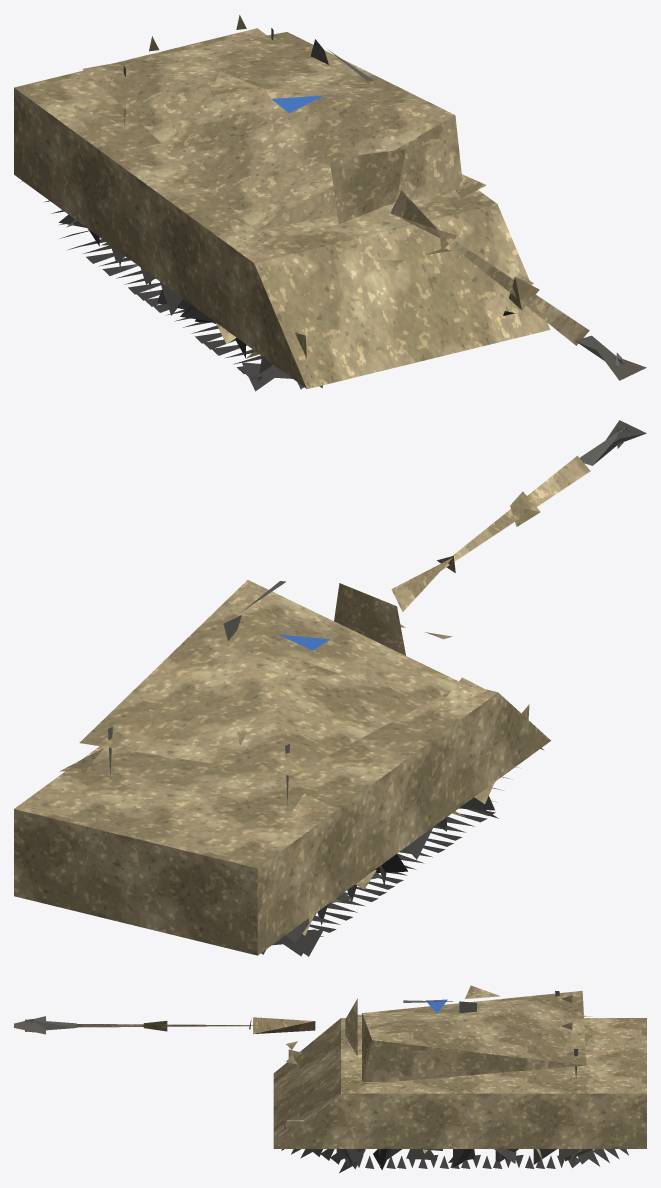
Rendered from art_e4_us_sph_LOD2.glb.
3 renders of one model, top to bottom at view 1: azimuth 30°, elevation 25°; view 2: azimuth 150°, elevation 25°; view 3: azimuth 270°, elevation 25°, orthographic. The views are drawn at different scales.
Visible parts, largest first — view 1: art_e4_us_sph_LOD2_body, art_e4_us_sph_LOD2_track, art_e4_us_sph_LOD2_gun, art_e4_us_sph_LOD2_deck; view 2: art_e4_us_sph_LOD2_body, art_e4_us_sph_LOD2_track, art_e4_us_sph_LOD2_gun; view 3: art_e4_us_sph_LOD2_body, art_e4_us_sph_LOD2_track, art_e4_us_sph_LOD2_gun, art_e4_us_sph_LOD2_deck.
Part boxes in pixels (x1,y1,x2,y2): art_e4_us_sph_LOD2_body: [14, 15, 589, 388]; art_e4_us_sph_LOD2_track: [21, 181, 515, 391]; art_e4_us_sph_LOD2_gun: [123, 28, 622, 366]; art_e4_us_sph_LOD2_deck: [596, 349, 646, 380]; art_e4_us_sph_LOD2_body: [14, 456, 590, 955]; art_e4_us_sph_LOD2_track: [261, 748, 543, 956]; art_e4_us_sph_LOD2_gun: [108, 426, 633, 805]; art_e4_us_sph_LOD2_body: [77, 985, 646, 1160]; art_e4_us_sph_LOD2_track: [281, 1123, 628, 1173]; art_e4_us_sph_LOD2_gun: [25, 991, 578, 1078]; art_e4_us_sph_LOD2_deck: [14, 1016, 45, 1034].
Size of the model in its own units: 3.45 by 3.17 by 12.21.
Materials: 6 (1 with a texture image).
